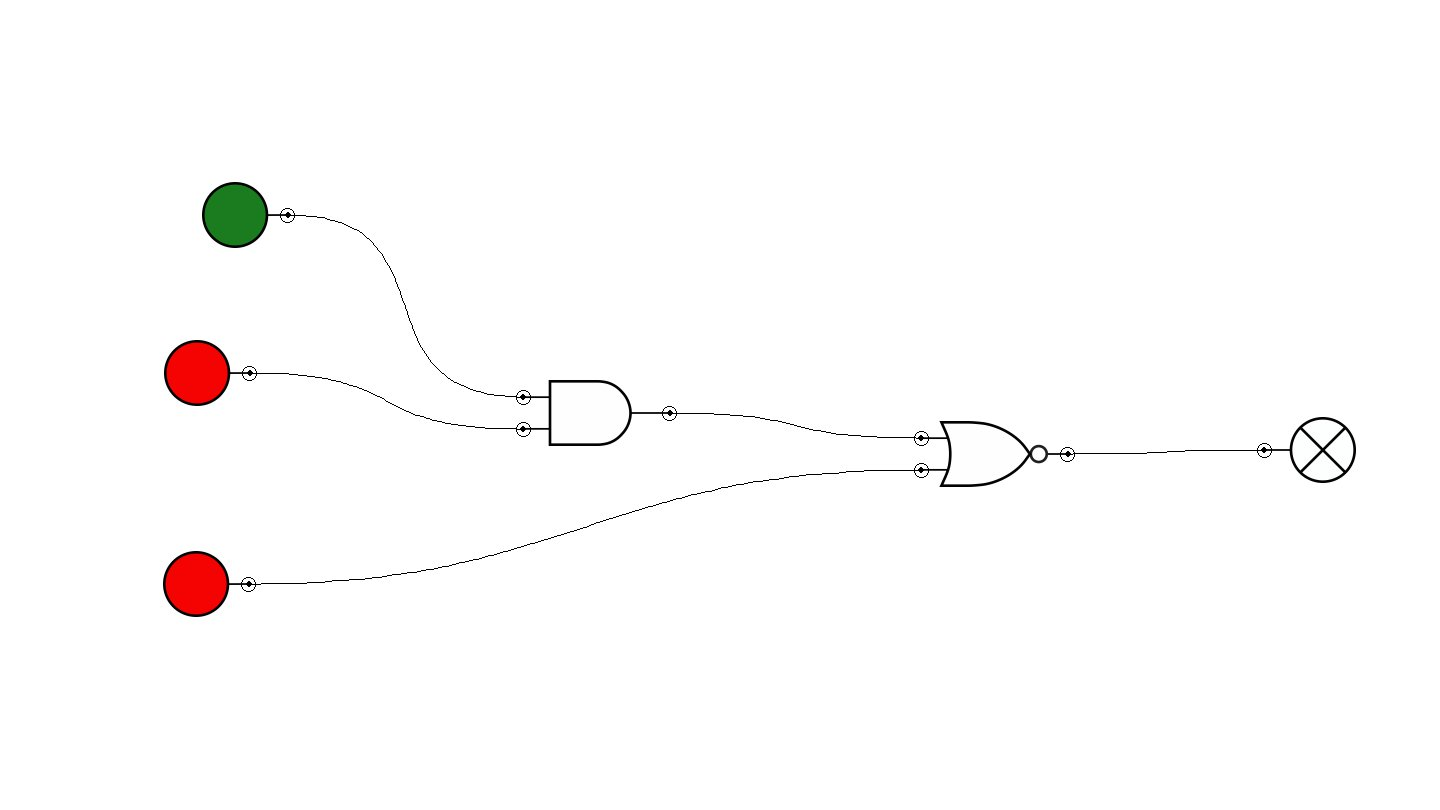and: (516, 380, 677, 446)
bulb: (1257, 417, 1356, 483)
nor: (914, 421, 1075, 487)
switch_False: (164, 340, 257, 406), (163, 551, 256, 617)
switch_True: (202, 182, 295, 248)
